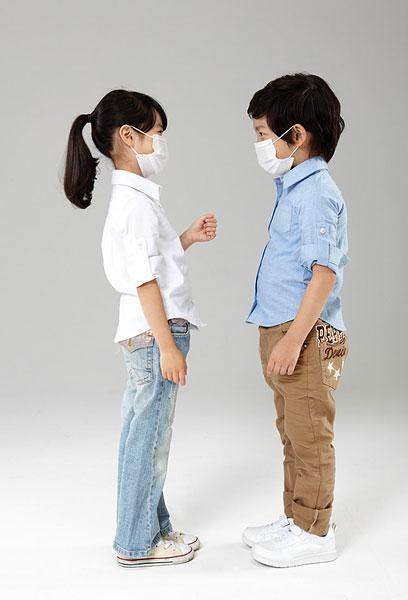OK: (121, 116, 172, 174), (253, 125, 304, 175)
